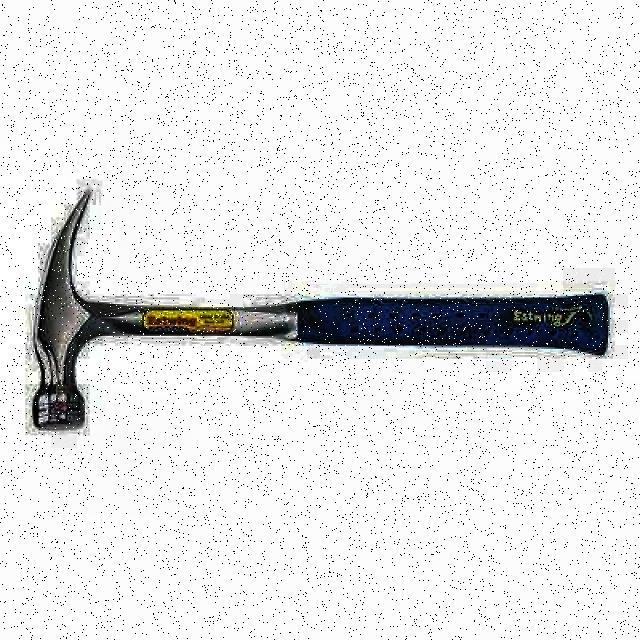hammer: (32, 189, 614, 431)
